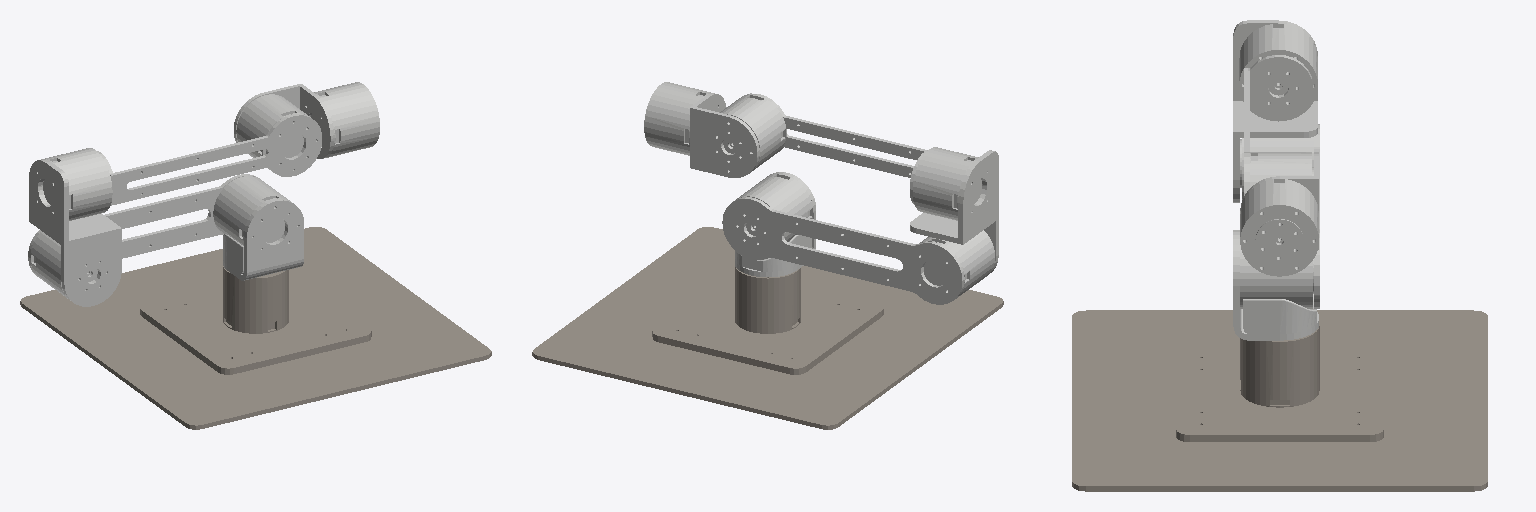
URDF robot description (robot_1):
<?xml version="1.0" encoding="utf-8"?>
<!-- This URDF was automatically created by SolidWorks to URDF Exporter! Originally created by Stephen Brawner (brawner@gmail.com) 
     Commit Version: 1.6.0-4-g7f85cfe  Build Version: 1.6.7995.38578
     For more information, please see http://wiki.ros.org/sw_urdf_exporter -->
<robot
  name="robot_1">
  <link
    name="base_link">
    <inertial>
      <origin
        xyz="-4.70844142286264E-08 1.29418732298242E-06 0.0057678"
        rpy="0 0 0" />
      <mass
        value="4.06800157701675" />
      <inertia
        ixx="0.0235898554568089"
        ixy="-9.64268018638175E-11"
        ixz="6.33404608418726E-12"
        iyy="0.023592876806635"
        iyz="9.80269028872486E-08"
        izz="0.0471182504343923" />
    </inertial>
    <visual>
      <origin
        xyz="0 0 0"
        rpy="0 0 0" />
      <geometry>
        <mesh
          filename="package://robot_description/meshes/base_link.STL" />
      </geometry>
      <material
        name="">
        <color
          rgba="0.647058823529412 0.619607843137255 0.588235294117647 1" />
      </material>
    </visual>
    <collision>
      <origin
        xyz="0 0 0"
        rpy="0 0 0" />
      <geometry>
        <mesh
          filename="package://robot_description/meshes/base_link.STL" />
      </geometry>
    </collision>
  </link>
  <link
    name="link_1">
    <inertial>
      <origin
        xyz="-0.0001798 -0.0062513 -0.0147465"
        rpy="0 0 0" />
      <mass
        value="0.6895799" />
      <inertia
        ixx="0.0005223"
        ixy="0.0000002"
        ixz="-0.0000002"
        iyy="0.0004968"
        iyz="0.0000271"
        izz="0.0003605" />
    </inertial>
    <visual>
      <origin
        xyz="0 0 0"
        rpy="0 0 0" />
      <geometry>
        <mesh
          filename="package://robot_description/meshes/link_1.STL" />
      </geometry>
      <material
        name="">
        <color
          rgba="0.827450980392157 0.827450980392157 0.819607843137255 1" />
      </material>
    </visual>
    <collision>
      <origin
        xyz="0 0 0"
        rpy="0 0 0" />
      <geometry>
        <mesh
          filename="package://robot_description/meshes/link_1.STL" />
      </geometry>
    </collision>
  </link>
  <joint
    name="joint_1"
    type="revolute">
    <origin
      xyz="0.00019927 -0.001877 0.10675"
      rpy="0 0 0" />
    <parent
      link="base_link" />
    <child
      link="link_1" />
    <axis
      xyz="0 0 1" />
    <limit
      lower="-3"
      upper="3"
      effort="27"
      velocity="3" />
  </joint>
  <link
    name="link_2">
    <inertial>
      <origin
        xyz="-0.1309040 0.0000000 0.0144901"
        rpy="0 0 0" />
      <mass
        value="0.6370289" />
      <inertia
        ixx="0.0003093"
        ixy="0.0000000"
        ixz="-0.0004001"
        iyy="0.0034922"
        iyz="0.0000000"
        izz="0.0034502" />
    </inertial>
    <visual>
      <origin
        xyz="0 0 0"
        rpy="0 0 0" />
      <geometry>
        <mesh
          filename="package://robot_description/meshes/link_2.STL" />
      </geometry>
      <material
        name="">
        <color
          rgba="0.827450980392157 0.827450980392157 0.819607843137255 1" />
      </material>
    </visual>
    <collision>
      <origin
        xyz="0 0 0"
        rpy="0 0 0" />
      <geometry>
        <mesh
          filename="package://robot_description/meshes/link_2.STL" />
      </geometry>
    </collision>
  </link>
  <joint
    name="joint_2"
    type="revolute">
    <origin
      xyz="0 0 0"
      rpy="-1.5708 0 0" />
    <parent
      link="link_1" />
    <child
      link="link_2" />
    <axis
      xyz="0 0 1" />
    <limit
      lower="-3"
      upper="3"
      effort="27"
      velocity="3" />
  </joint>
  <link
    name="link_3">
    <inertial>
      <origin
        xyz="-0.0058307 0.0495532 0.0062562"
        rpy="0 0 0" />
      <mass
        value="0.7024189" />
      <inertia
        ixx="0.0008960"
        ixy="0.0000733"
        ixz="-0.0000176"
        iyy="0.0004118"
        iyz="0.0001846"
        izz="0.0008387" />
    </inertial>
    <visual>
      <origin
        xyz="0 0 0"
        rpy="0 0 0" />
      <geometry>
        <mesh
          filename="package://robot_description/meshes/link_3.STL" />
      </geometry>
      <material
        name="">
        <color
          rgba="0.827450980392157 0.827450980392157 0.819607843137255 1" />
      </material>
    </visual>
    <collision>
      <origin
        xyz="0 0 0"
        rpy="0 0 0" />
      <geometry>
        <mesh
          filename="package://robot_description/meshes/link_3.STL" />
      </geometry>
    </collision>
  </link>
  <joint
    name="joint_3"
    type="revolute">
    <origin
      xyz="-0.18 0 0"
      rpy="-3.1416 0 0" />
    <parent
      link="link_2" />
    <child
      link="link_3" />
    <axis
      xyz="0 0 1" />
    <limit
      lower="-3"
      upper="3"
      effort="27"
      velocity="3" />
  </joint>
  <link
    name="link_4">
    <inertial>
      <origin
        xyz="0.0002323 0.0070423 0.1600094"
        rpy="0 0 0" />
      <mass
        value="0.5211502" />
      <inertia
        ixx="0.0026660"
        ixy="0.0000000"
        ixz="0.0000000"
        iyy="0.0026491"
        iyz="0.0000789"
        izz="0.0002107" />
    </inertial>
    <visual>
      <origin
        xyz="0 0 0"
        rpy="0 0 0" />
      <geometry>
        <mesh
          filename="package://robot_description/meshes/link_4.STL" />
      </geometry>
      <material
        name="">
        <color
          rgba="0.827450980392157 0.827450980392157 0.819607843137255 1" />
      </material>
    </visual>
    <collision>
      <origin
        xyz="0 0 0"
        rpy="0 0 0" />
      <geometry>
        <mesh
          filename="package://robot_description/meshes/link_4.STL" />
      </geometry>
    </collision>
  </link>
  <joint
    name="joint_4"
    type="revolute">
    <origin
      xyz="-0.00071398 0.071768 -0.00087296"
      rpy="1.5708 0 1.5708" />
    <parent
      link="link_3" />
    <child
      link="link_4" />
    <axis
      xyz="0 0 1" />
    <limit
      lower="-3"
      upper="3"
      effort="7"
      velocity="3" />
  </joint>
  <link
    name="link_5">
    <inertial>
      <origin
        xyz="-0.0000294 -0.0433495 -0.0048578"
        rpy="0 0 0" />
      <mass
        value="0.4734144" />
      <inertia
        ixx="0.0004422"
        ixy="0.0000000"
        ixz="0.0000001"
        iyy="0.0002457"
        iyz="0.0001061"
        izz="0.0004156" />
    </inertial>
    <visual>
      <origin
        xyz="0 0 0"
        rpy="0 0 0" />
      <geometry>
        <mesh
          filename="package://robot_description/meshes/link_5.STL" />
      </geometry>
      <material
        name="">
        <color
          rgba="0.827450980392157 0.827450980392157 0.819607843137255 1" />
      </material>
    </visual>
    <collision>
      <origin
        xyz="0 0 0"
        rpy="0 0 0" />
      <geometry>
        <mesh
          filename="package://robot_description/meshes/link_5.STL" />
      </geometry>
    </collision>
  </link>
  <joint
    name="joint_5"
    type="revolute">
    <origin
      xyz="0.00023228 -0.0022353 0.20325"
      rpy="-1.5708 0 0" />
    <parent
      link="link_4" />
    <child
      link="link_5" />
    <axis
      xyz="0 0 -1" />
    <limit
      lower="-3"
      upper="3"
      effort="7"
      velocity="3" />
  </joint>
  <link
    name="link_6">
    <inertial>
      <origin
        xyz="0.000232281977285045 -6.28905157118442E-11 0.017419494184961"
        rpy="0 0 0" />
      <mass
        value="0.0102510168286635" />
      <inertia
        ixx="8.9340237298249E-07"
        ixy="-1.1511058328978E-22"
        ixz="2.30025241635429E-20"
        iyy="8.9340237298249E-07"
        iyz="2.06828787998769E-20"
        izz="1.58125115444697E-06" />
    </inertial>
    <visual>
      <origin
        xyz="0 0 0"
        rpy="0 0 0" />
      <geometry>
        <mesh
          filename="package://robot_description/meshes/link_6.STL" />
      </geometry>
      <material
        name="">
        <color
          rgba="0.827450980392157 0.827450980392157 0.819607843137255 1" />
      </material>
    </visual>
    <collision>
      <origin
        xyz="0 0 0"
        rpy="0 0 0" />
      <geometry>
        <mesh
          filename="package://robot_description/meshes/link_6.STL" />
      </geometry>
    </collision>
  </link>
  <joint
    name="joint_6"
    type="revolute">
    <origin
      xyz="-0.00023228 -0.061253 0.0014853"
      rpy="1.5708 0 0" />
    <parent
      link="link_5" />
    <child
      link="link_6" />
    <axis
      xyz="0 0 1" />
    <limit
      lower="-3"
      upper="3"
      effort="7"
      velocity="3" />
  </joint>
</robot>

--- Render facts (derived) ---
3 views of the same robot in one strip: view 1: azimuth 30°, elevation 25°; view 2: azimuth 150°, elevation 25°; view 3: azimuth 270°, elevation 25° (orthographic).
Model robot_1 with 7 links and 6 joints (6 revolute), rooted at base_link, posed all joints at 0.
Links seen in each view (by area): view 1: base_link, link_3, link_4, link_1, link_2, link_5; view 2: base_link, link_2, link_5, link_3, link_4, link_1; view 3: base_link, link_3, link_1, link_4, link_5, link_6, link_2.
Link boxes in pixels (x1,y1,x2,y2): base_link: (20, 227, 491, 429); link_3: (29, 148, 121, 306); link_4: (97, 94, 321, 205); link_1: (213, 176, 303, 280); link_2: (28, 174, 259, 298); link_5: (234, 82, 379, 158); base_link: (532, 227, 1003, 429); link_2: (722, 197, 994, 304); link_5: (644, 82, 759, 177); link_3: (910, 147, 998, 272); link_4: (720, 93, 927, 204); link_1: (735, 172, 815, 276); base_link: (1072, 310, 1487, 491); link_3: (1233, 20, 1317, 202); link_1: (1233, 230, 1318, 340); link_4: (1244, 55, 1312, 195); link_5: (1240, 152, 1318, 276); link_6: (1255, 219, 1303, 262); link_2: (1242, 124, 1319, 308).
Size in the robot's own frame: 0.3585 by 0.3 by 0.2073 metres.
Meshes: 7 distinct files referenced, 7 mesh visuals loaded (7 binary STL).
